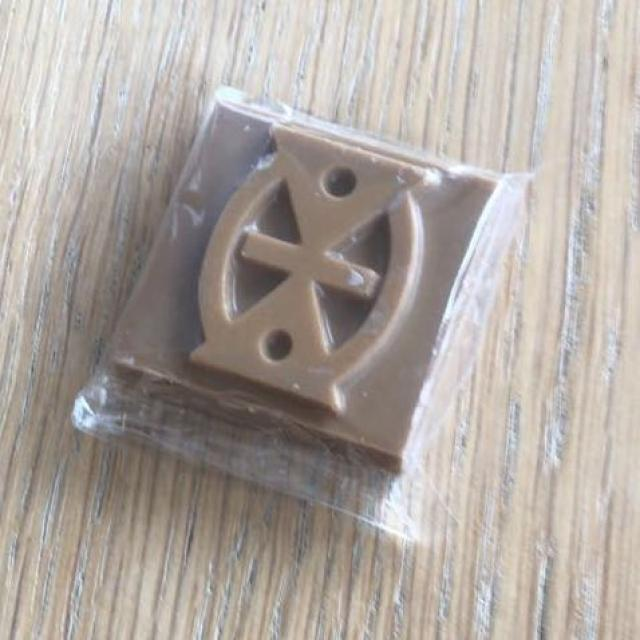chocolate: (91, 100, 528, 478), (107, 96, 520, 477)
